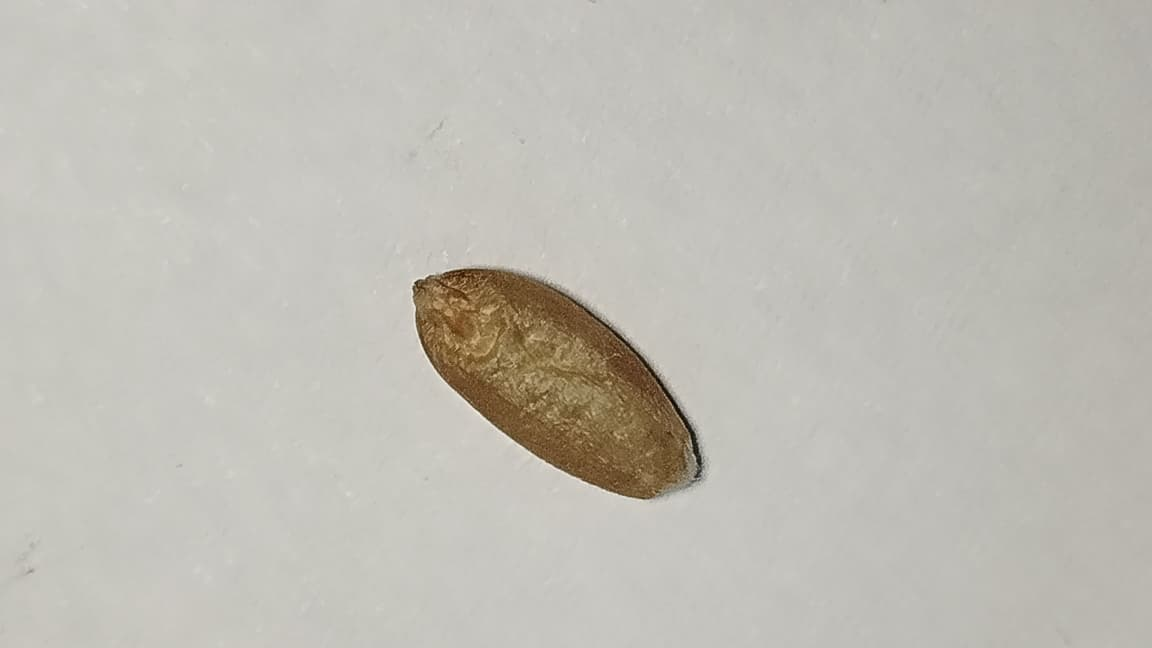healthy: (414, 269, 699, 498)
